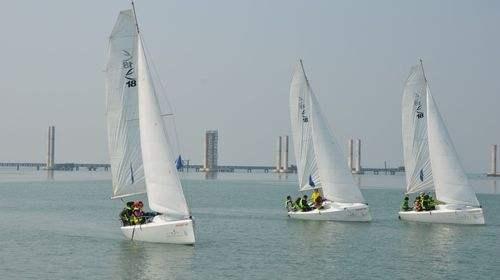fanchuan: (102, 1, 211, 245), (278, 53, 378, 223), (395, 55, 487, 223)
